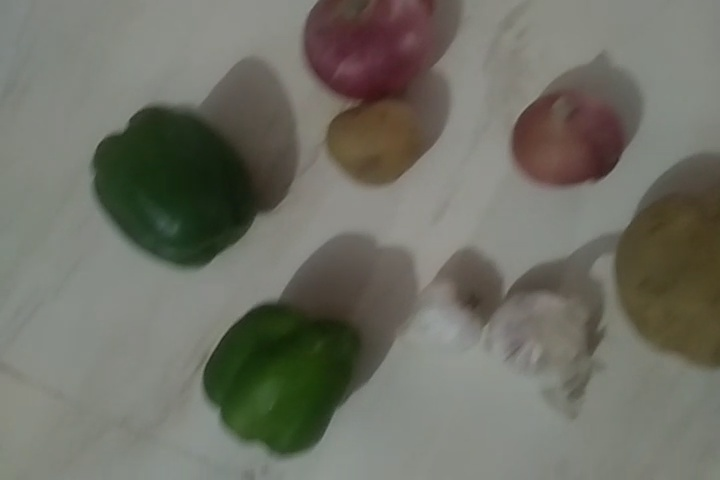capsicum: (95, 118, 257, 264), (211, 304, 357, 447)
onion: (297, 1, 437, 104), (487, 294, 599, 412), (519, 92, 620, 186), (413, 268, 494, 359)
potato: (614, 193, 720, 364), (333, 110, 426, 181)
